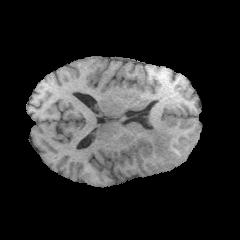glioma: (125, 99, 184, 170)
